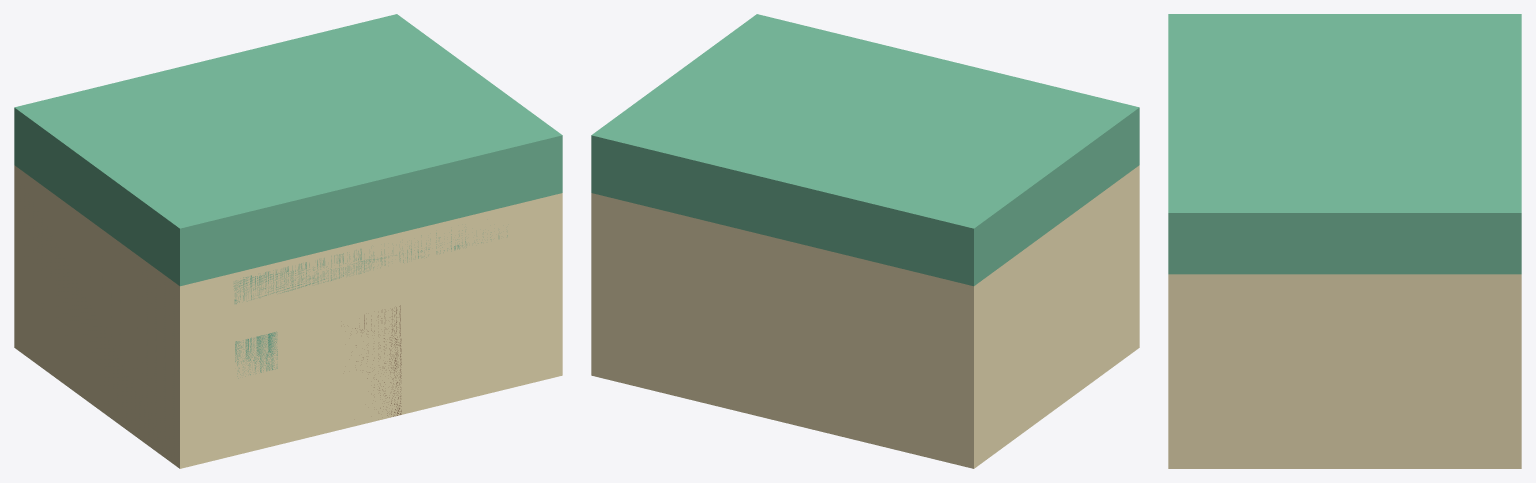
Rendered from gedung_fotokopi.fbx.
3 views of the same model, side by side, from view 1: azimuth 30°, elevation 25°; view 2: azimuth 150°, elevation 25°; view 3: azimuth 270°, elevation 25° (orthographic). The views are drawn at different scales.
Visible parts, largest first — view 1: gedung_fotokopi; view 2: gedung_fotokopi; view 3: gedung_fotokopi.
Part boxes in pixels (x1,y1,x2,y2): gedung_fotokopi: (14,14,562,468); gedung_fotokopi: (591,14,1139,468); gedung_fotokopi: (1168,14,1521,468).
Bounding box in the file's own units: 800 × 480 × 600.
Materials: 1 (1 with a texture image).
